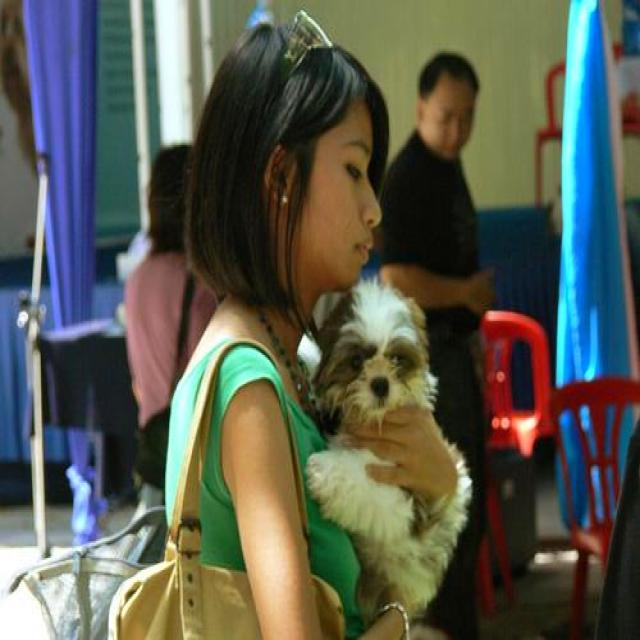shih_tzu: (303, 286, 471, 608)
